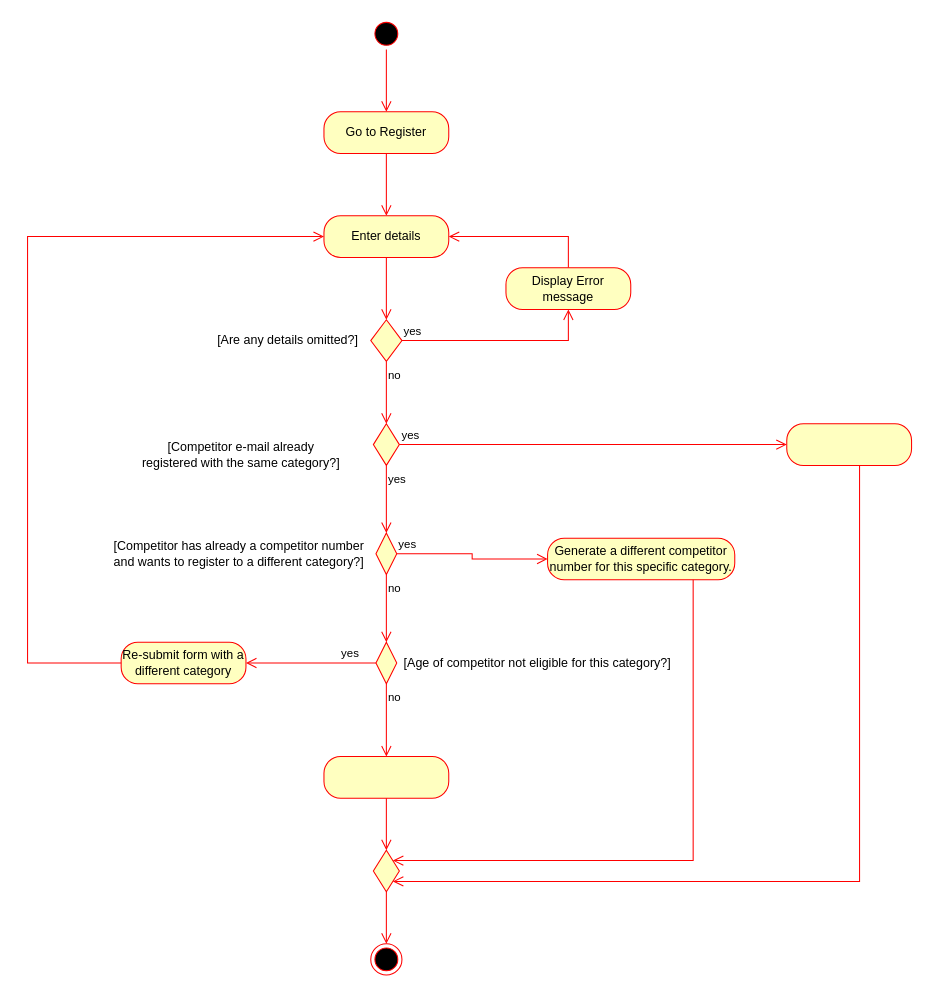
The diagram is 930 pixels wide and 993 high, and some of its shapes have lost their labels. The shapes that lost their labels are listed below. From the top down, each one's centre as x and y in pixels, then its label:
At point (849, 444): "Registration refused".
At point (386, 777): "Allocate a Competitor Number".
